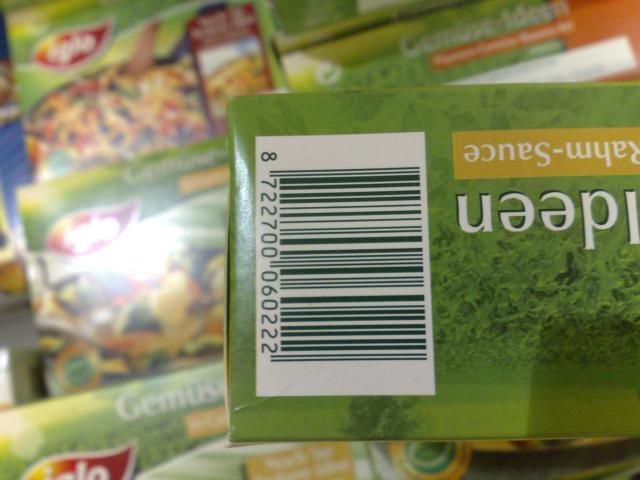Barcode: (252, 141, 436, 374)
